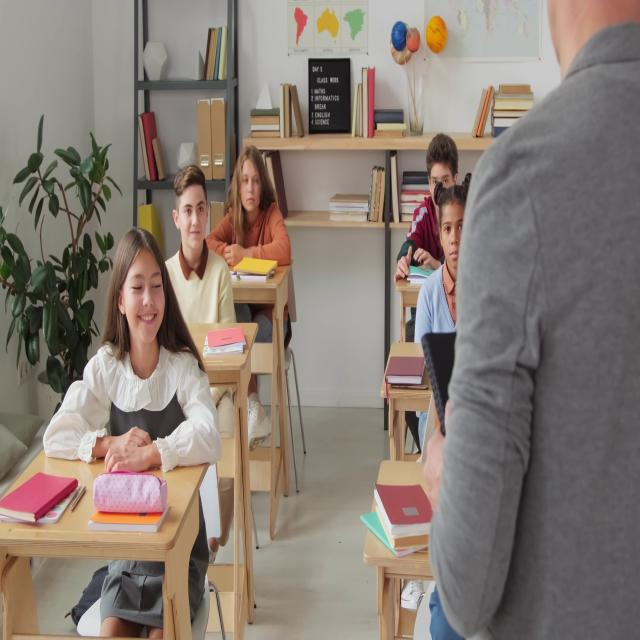listening: (43, 225, 224, 633), (208, 147, 292, 442), (164, 163, 242, 414), (414, 184, 466, 461), (394, 133, 459, 286)
